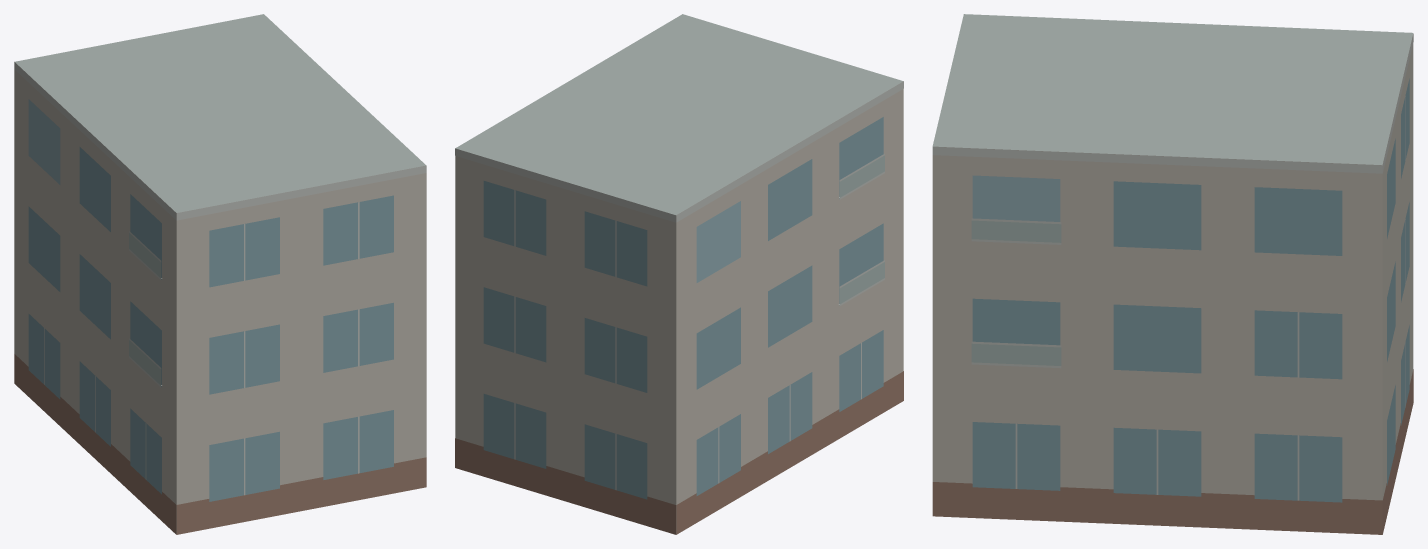
Rendered from survey-upis-32636149.glb.
3 renders of one model, left to right at view 1: azimuth 30°, elevation 25°; view 2: azimuth 150°, elevation 25°; view 3: azimuth 270°, elevation 25°, orthographic. The views are drawn at different scales.
Visible parts, largest first — view 1: survey-upis-32636149.tmp; view 2: survey-upis-32636149.tmp; view 3: survey-upis-32636149.tmp.
Part boxes in pixels (box(x1,y1,x2,y2)): survey-upis-32636149.tmp: box(14, 14, 426, 534); survey-upis-32636149.tmp: box(455, 14, 903, 534); survey-upis-32636149.tmp: box(932, 14, 1413, 534).
Size of the model in its own units: 9.22 by 10.5 by 12.39.
